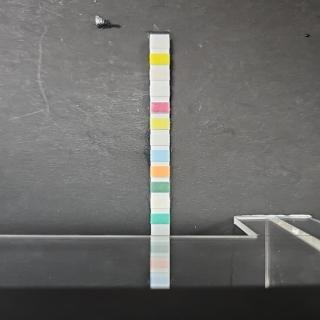mark: (150, 118, 170, 132), (151, 212, 170, 225), (150, 53, 170, 65), (150, 86, 170, 98), (150, 102, 170, 114), (150, 134, 170, 146), (150, 37, 169, 49), (151, 166, 170, 178), (151, 196, 170, 208), (150, 69, 170, 80), (150, 182, 170, 193), (151, 150, 169, 162)
